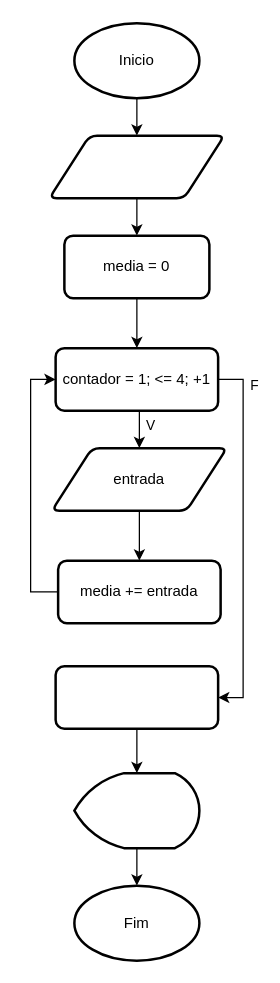
The diagram is 280 pixels wide and 983 high, and some of its shapes have lost their labels. The box of each missing label's shape, as (x1, y1, x2, y2) in pixels:
media = media / 4: (54, 664, 219, 729)
nome: (48, 134, 225, 199)
nome media: (72, 771, 200, 849)
